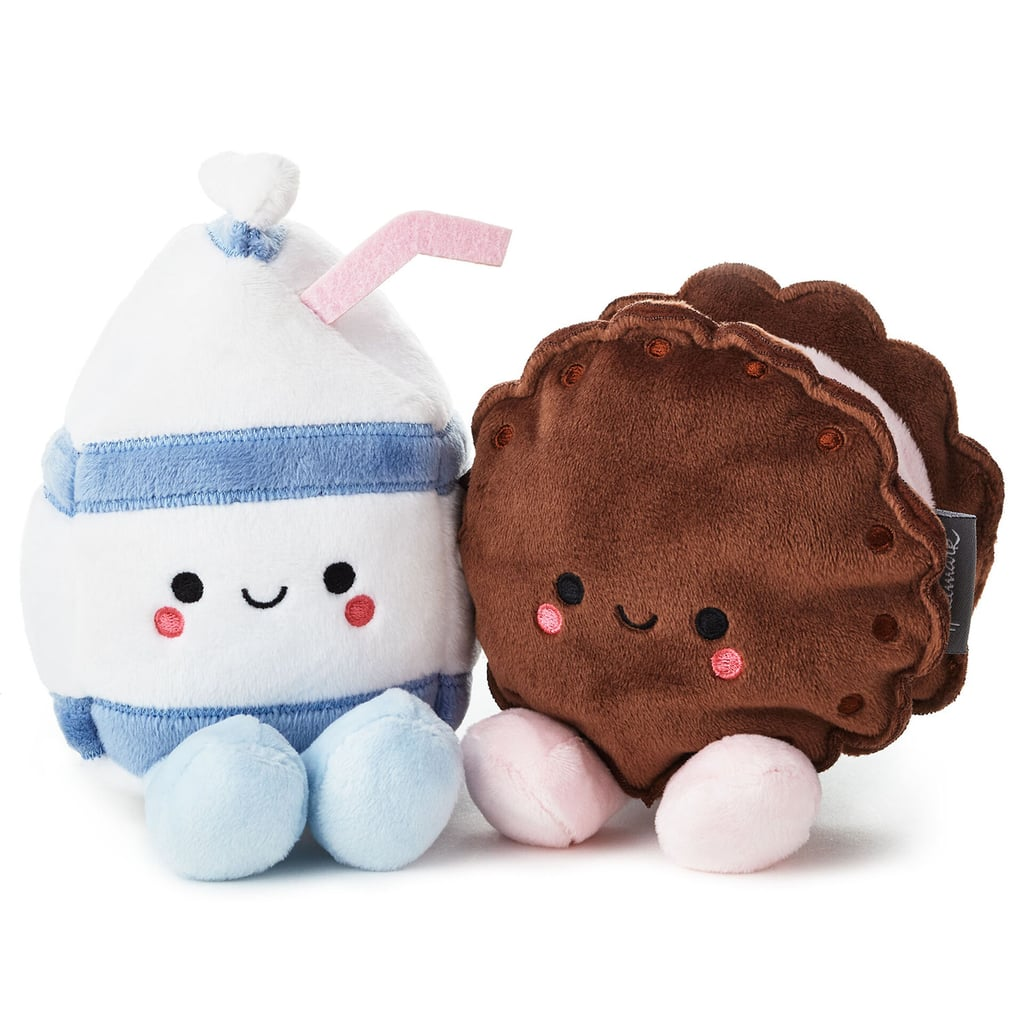toy: (20, 105, 1024, 917)
